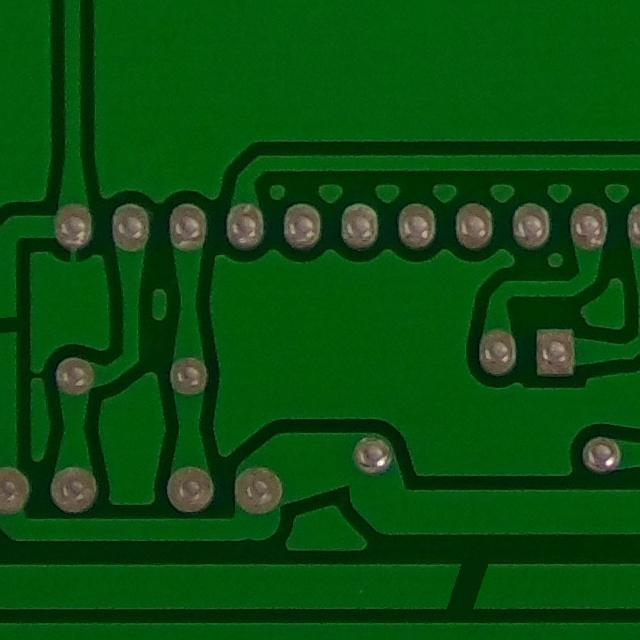open_circuit: (429, 551, 498, 619), (0, 299, 26, 346)
